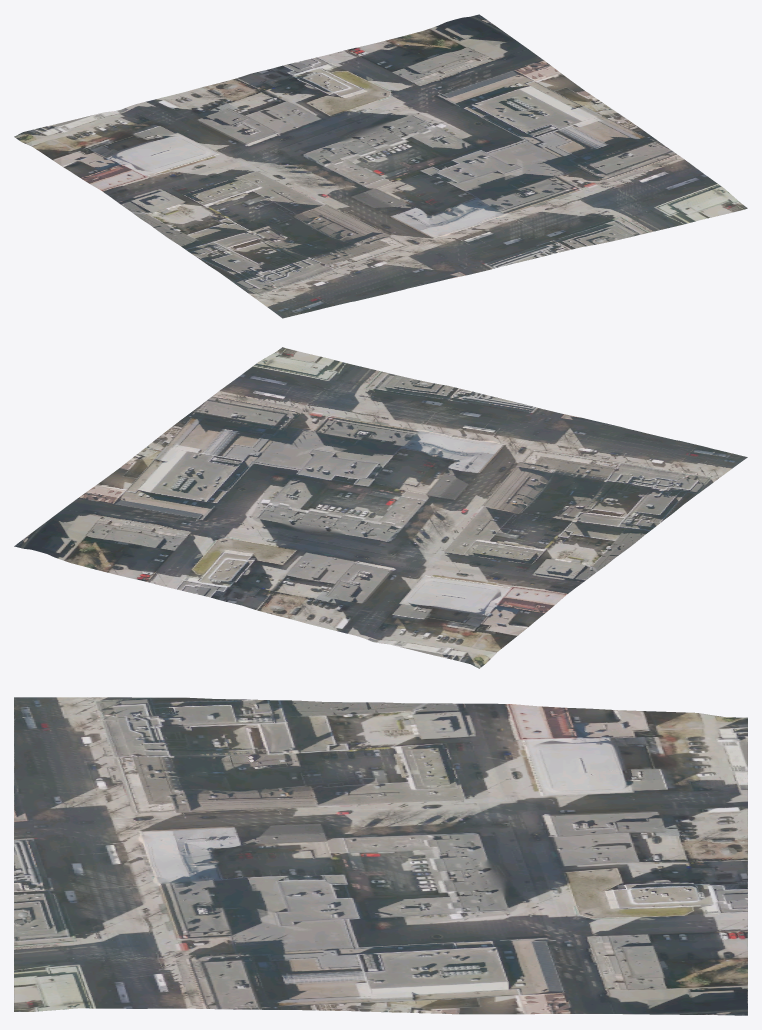
File: CM_Terrain_24487592_6821022.fbx
The picture shows the model from 3 angles, top to bottom: view 1: azimuth 30°, elevation 25°; view 2: azimuth 150°, elevation 25°; view 3: azimuth 270°, elevation 25°; orthographic projection. The views are drawn at different scales.
Parts seen in each view (by area): view 1: CM_Terrain_24487592_6821022_LOD0; view 2: CM_Terrain_24487592_6821022_LOD0; view 3: CM_Terrain_24487592_6821022_LOD0.
Part boxes in pixels (left/top/right/bottom): CM_Terrain_24487592_6821022_LOD0: left=14, top=14, right=747, bottom=318; CM_Terrain_24487592_6821022_LOD0: left=14, top=347, right=747, bottom=668; CM_Terrain_24487592_6821022_LOD0: left=14, top=697, right=747, bottom=1015.
Size of what is drawn, in the model's own units: 205 by 6.37 by 205.
